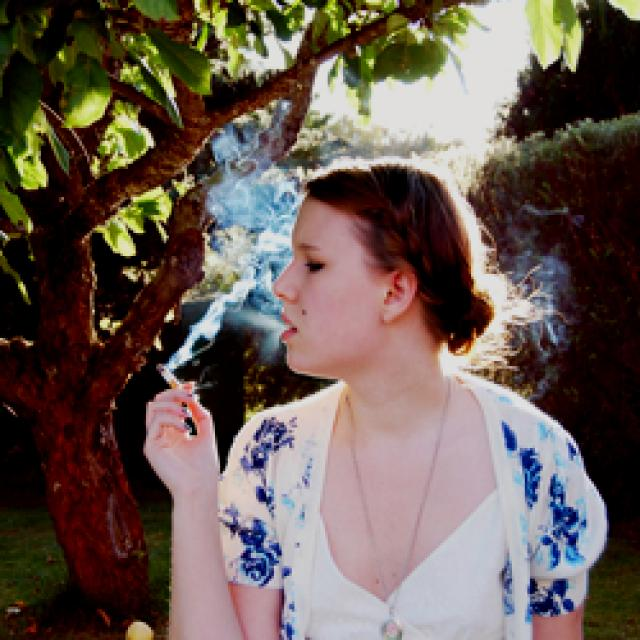Smooking: (155, 362, 191, 398)
